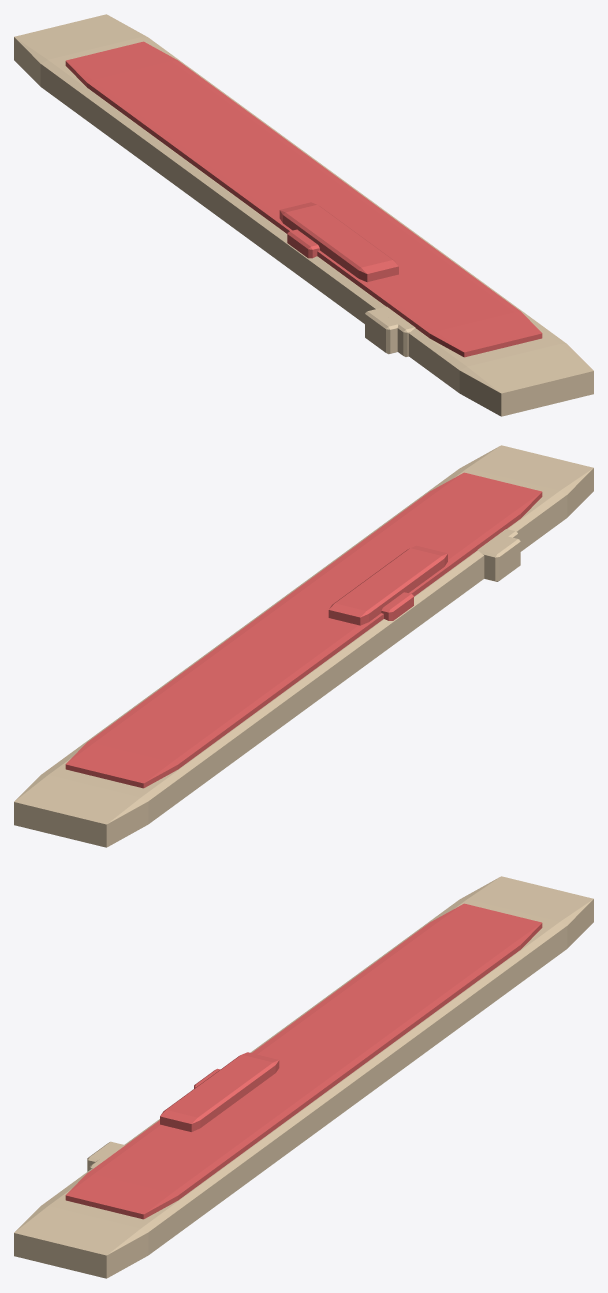
The model's file is b16_serrated_takeout_knife.glb.
3 views of the same model, one above another, from view 1: azimuth 30°, elevation 25°; view 2: azimuth 150°, elevation 25°; view 3: azimuth 330°, elevation 25° (orthographic).
Parts seen in each view (by area): view 1: b16_serrated_takeout_knife; view 2: b16_serrated_takeout_knife; view 3: b16_serrated_takeout_knife.
Boxes of the visible parts, <box> form: b16_serrated_takeout_knife: <box>14,14,593,416</box>; b16_serrated_takeout_knife: <box>14,445,593,847</box>; b16_serrated_takeout_knife: <box>14,876,593,1278</box>.
Bounding box in the file's own units: 0.026 × 0.01 × 0.181.
